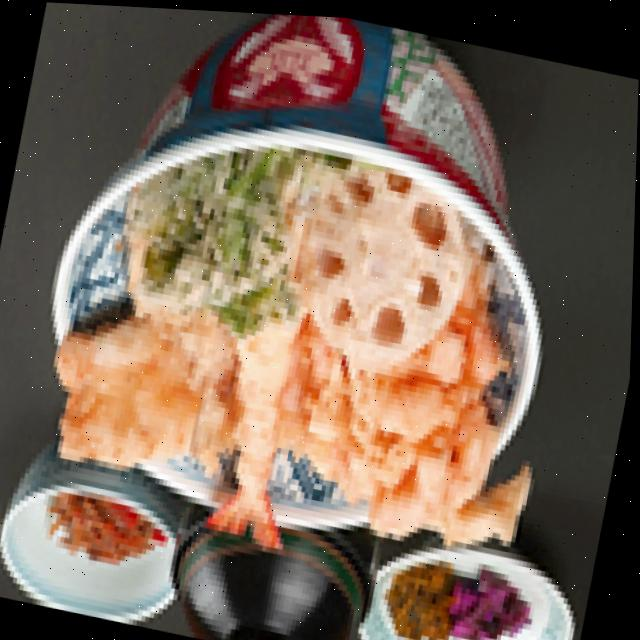熟制海鲜: (5, 1, 609, 606)
